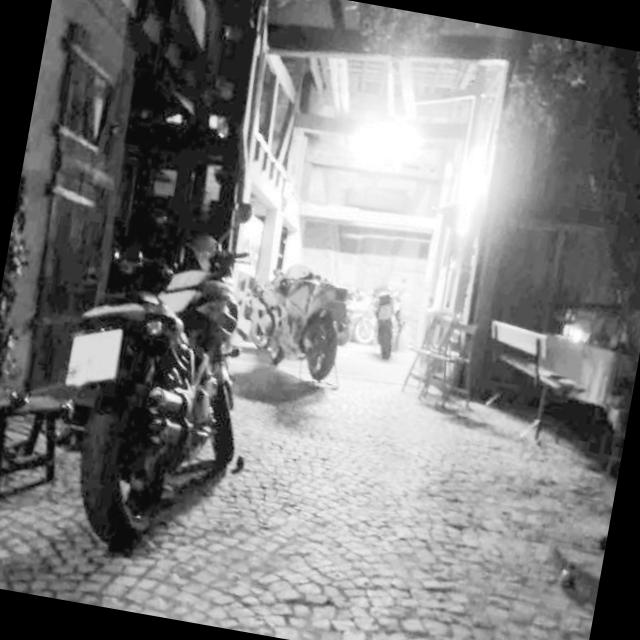Motorcycle: (27, 177, 308, 568), (236, 231, 360, 402), (364, 278, 419, 372)
